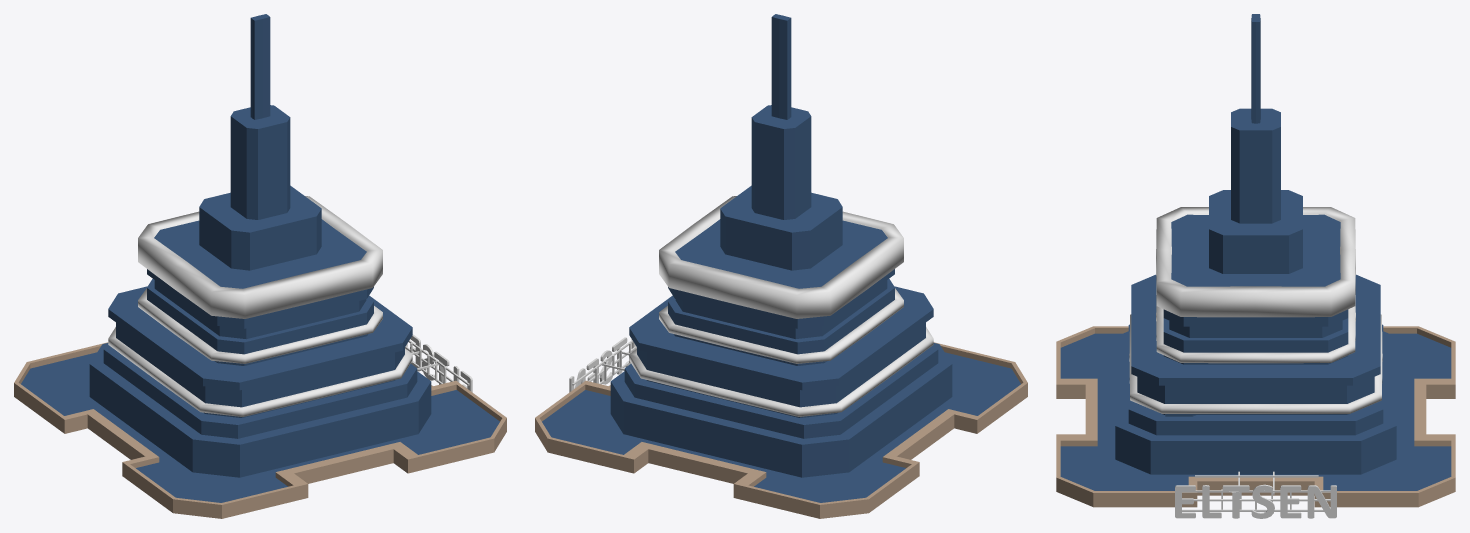
File: mdl_top_25x25.fbx
The picture shows the model from 3 angles, left to right: view 1: azimuth 30°, elevation 25°; view 2: azimuth 150°, elevation 25°; view 3: azimuth 270°, elevation 25°; orthographic projection. The views are drawn at different scales.
Parts seen in each view (by area): view 1: Tower_top, Cube.010, Cube.011, Tower_top_neon, Text, Cube.008; view 2: Tower_top, Cube.010, Cube.011, Tower_top_neon, Text, Cube.008; view 3: Tower_top, Cube.010, Cube.011, Tower_top_neon, Text, Cube.008.
Boxes of the visible parts, <box> form: Tower_top: <box>108,14,412,417</box>; Cube.010: <box>14,342,506,518</box>; Cube.011: <box>89,343,431,477</box>; Tower_top_neon: <box>108,196,412,416</box>; Text: <box>405,334,472,392</box>; Cube.008: <box>405,340,469,385</box>; Tower_top: <box>629,14,933,417</box>; Cube.010: <box>535,342,1027,518</box>; Cube.011: <box>610,343,952,477</box>; Tower_top_neon: <box>629,196,933,416</box>; Text: <box>569,337,636,392</box>; Cube.008: <box>572,340,636,385</box>; Tower_top: <box>1131,14,1380,414</box>; Cube.010: <box>1056,326,1455,507</box>; Cube.011: <box>1115,324,1396,474</box>; Tower_top_neon: <box>1129,207,1382,413</box>; Text: <box>1175,484,1336,518</box>; Cube.008: <box>1182,471,1330,511</box>.
Size of the model in its own units: 25.87 by 29.37 by 25.62.
